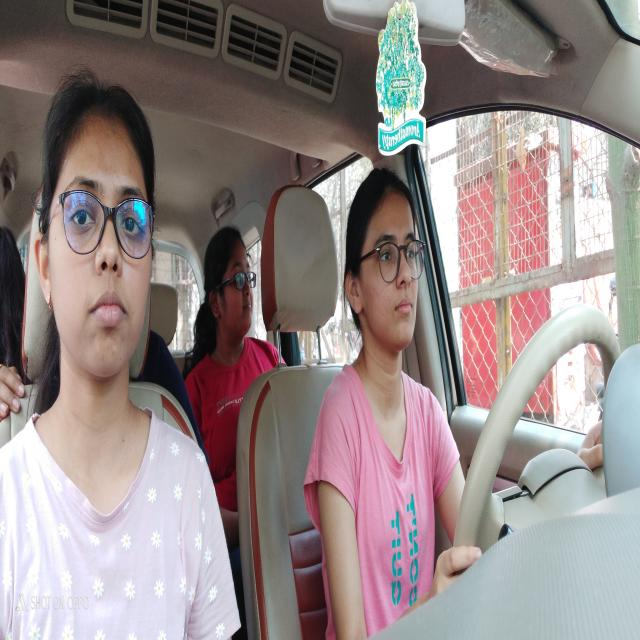person: (33, 74, 160, 377), (342, 170, 423, 360), (200, 217, 256, 346)
